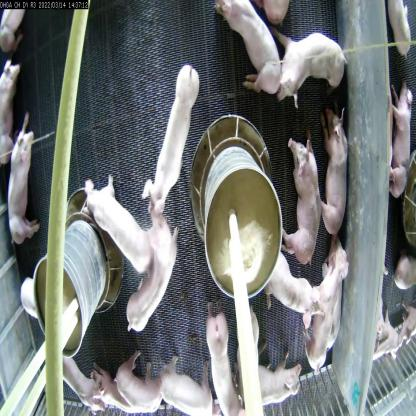Pig: (138, 56, 200, 221), (86, 181, 150, 283), (277, 132, 322, 272), (124, 219, 180, 331), (306, 238, 350, 377), (272, 24, 341, 106), (218, 0, 279, 83), (0, 115, 37, 244), (265, 245, 324, 321), (317, 111, 350, 226), (380, 85, 414, 194), (210, 310, 245, 415), (246, 352, 309, 406), (163, 365, 219, 415), (0, 47, 23, 161), (51, 349, 91, 413), (115, 365, 160, 415), (95, 369, 119, 416)
